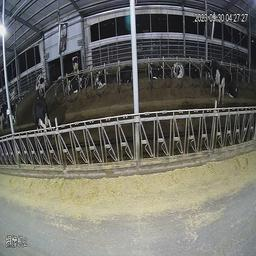cow: (205, 56, 228, 104), (33, 95, 52, 143), (64, 63, 85, 95), (146, 55, 165, 84), (187, 56, 206, 82), (118, 57, 133, 89), (171, 58, 187, 83), (93, 63, 107, 90), (228, 74, 241, 101), (35, 68, 46, 92)
